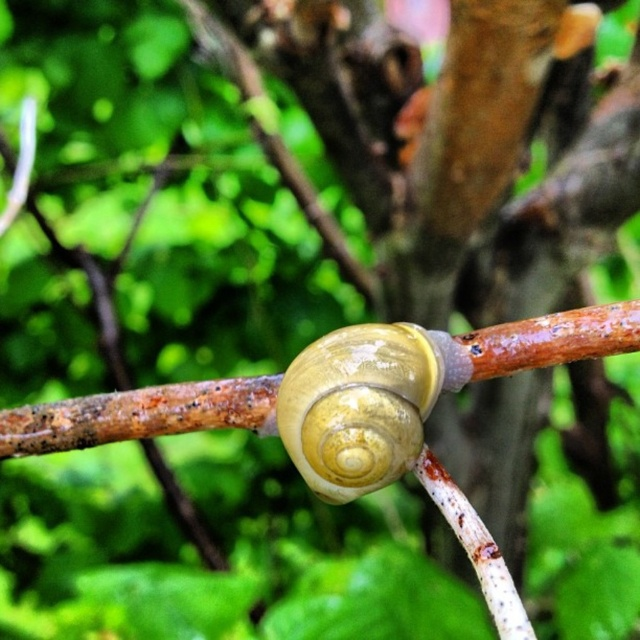Snail: (254, 314, 480, 508)
